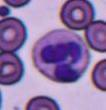N: (33, 29, 88, 83)
